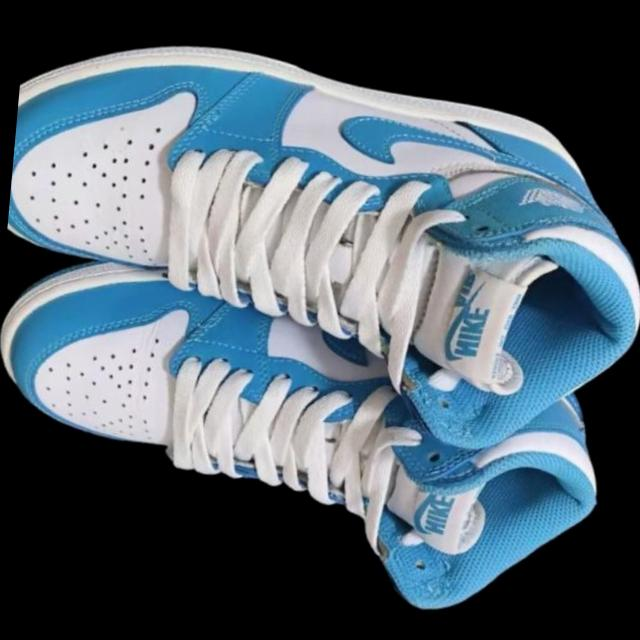nike_original_jordan: (0, 0, 640, 594), (0, 114, 640, 640)
